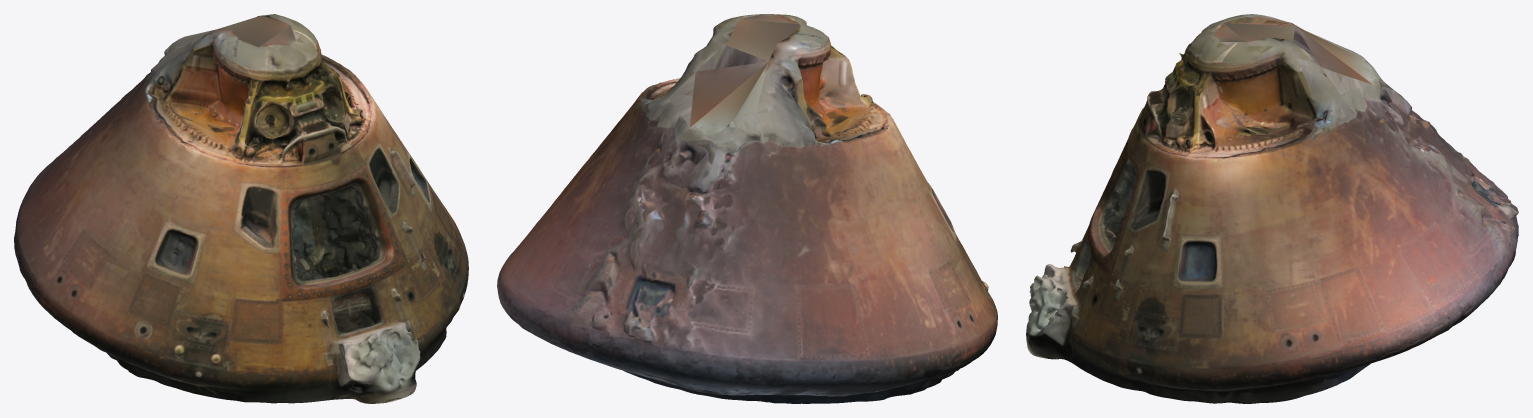
File: rover5.glb
3 views of the same model, side by side, from view 1: azimuth 30°, elevation 25°; view 2: azimuth 150°, elevation 25°; view 3: azimuth 270°, elevation 25° (orthographic). The views are drawn at different scales.
Visible parts, largest first — view 1: Object_2; view 2: Object_2; view 3: Object_2.
Part boxes in pixels (box(x1,y1,x2,y2)): Object_2: box(14, 14, 468, 403); Object_2: box(497, 14, 997, 403); Object_2: box(1026, 14, 1518, 403).
Bounding box in the file's own units: 24.97 × 17.99 × 26.3.
1 material, 1 textured.
